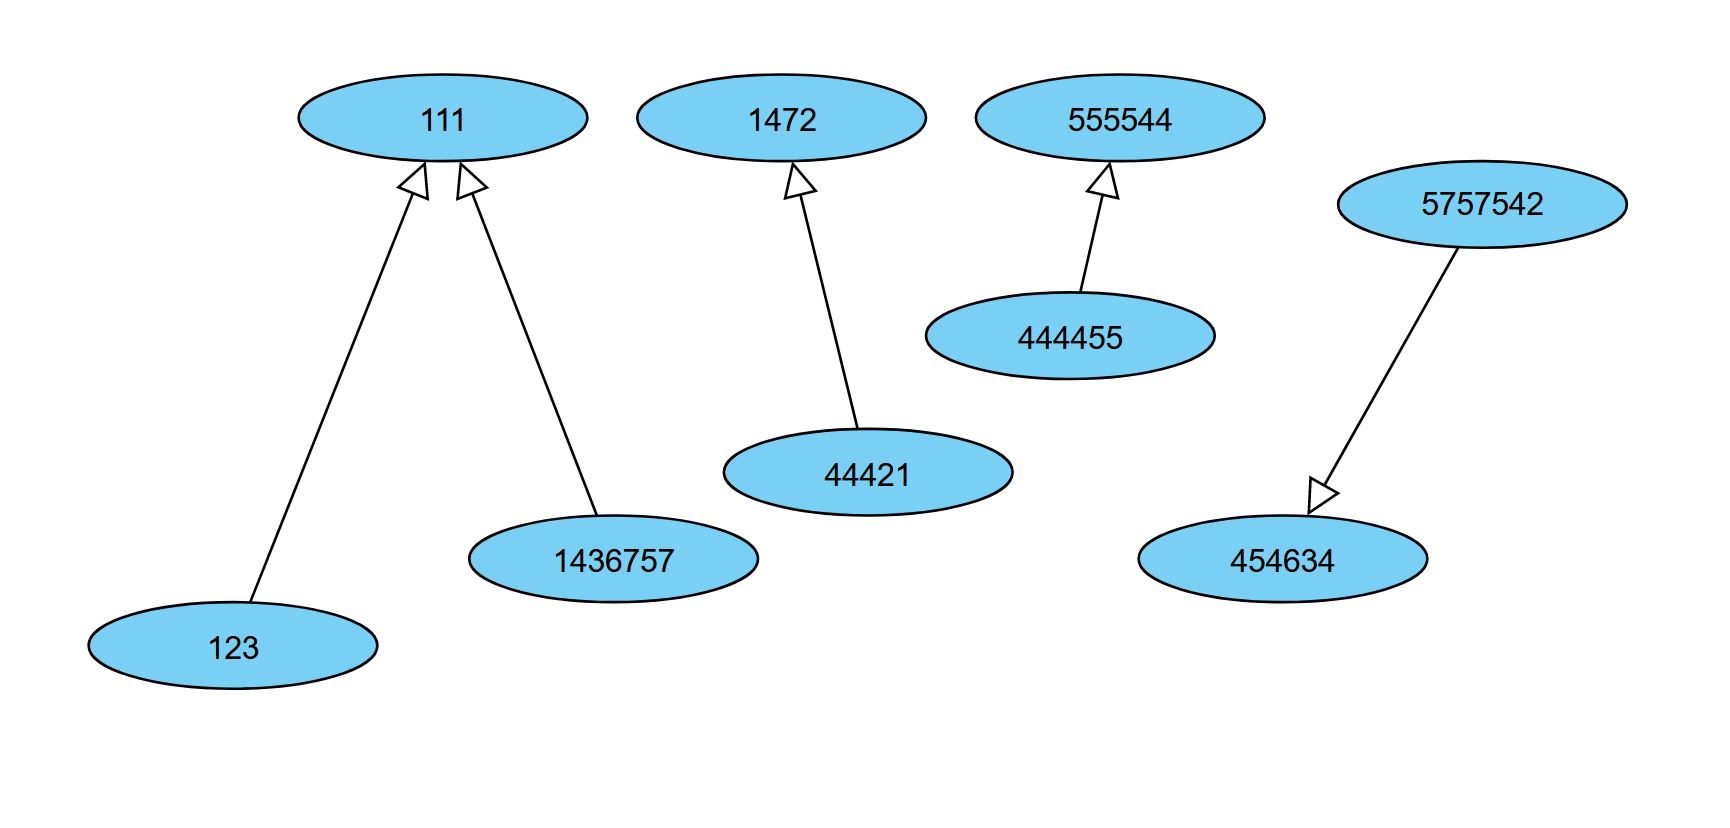generalization: (252, 161, 431, 599), (455, 163, 598, 516), (1304, 245, 1462, 516), (783, 160, 859, 429), (1078, 158, 1123, 288)
text: (1215, 541, 1343, 585), (548, 539, 690, 576), (1010, 314, 1125, 355), (818, 452, 916, 500), (1413, 185, 1545, 219), (1061, 103, 1179, 134), (728, 105, 831, 137), (201, 628, 269, 664), (413, 104, 468, 132)
use_case: (970, 70, 1271, 163), (921, 290, 1221, 382), (87, 599, 380, 692), (723, 428, 1019, 519), (1329, 158, 1631, 246), (630, 72, 929, 160), (1138, 514, 1425, 606), (299, 73, 591, 160), (467, 514, 759, 602)
